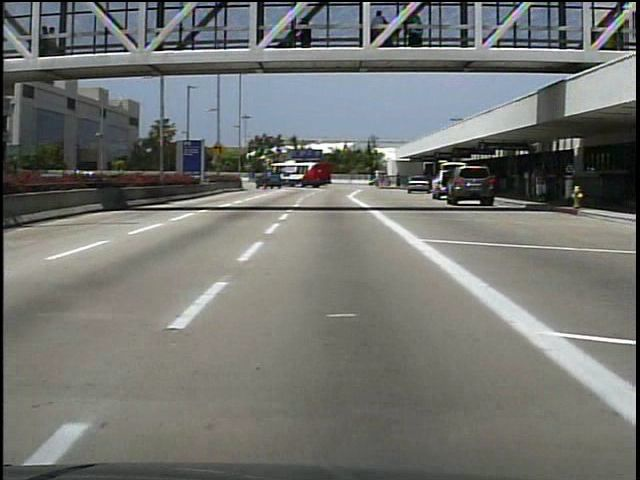person: (528, 158, 551, 205), (38, 22, 61, 62), (294, 17, 316, 52)
